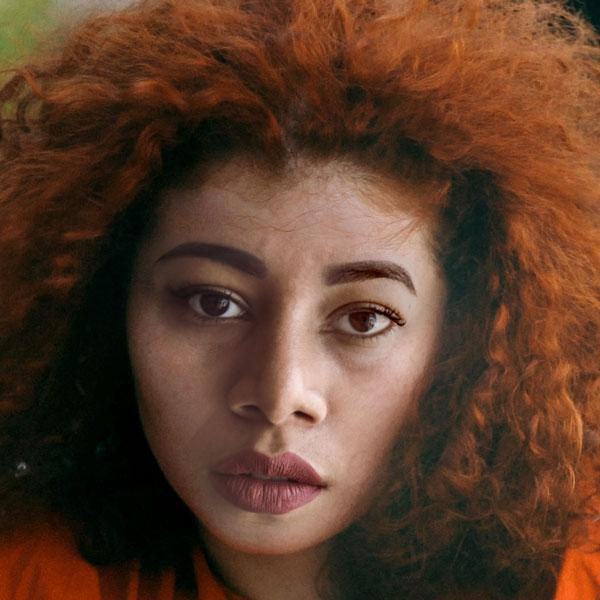Eyes: (317, 291, 408, 353), (166, 271, 252, 333)
